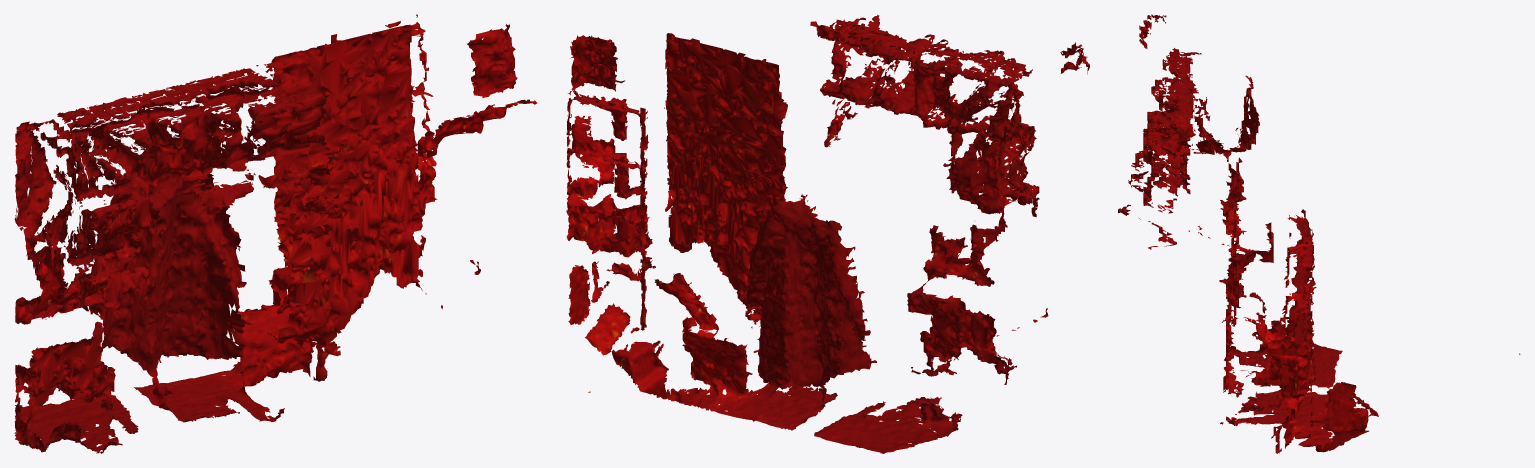
File: mesh_iter_0001.obj
3 renders of one model, left to right at view 1: azimuth 30°, elevation 25°; view 2: azimuth 150°, elevation 25°; view 3: azimuth 270°, elevation 25°, orthographic. The views are drawn at different scales.
Size of the model in its own units: 3.03 by 2.14 by 2.53.
